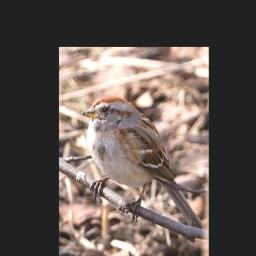Sparrow: (81, 92, 205, 244)
